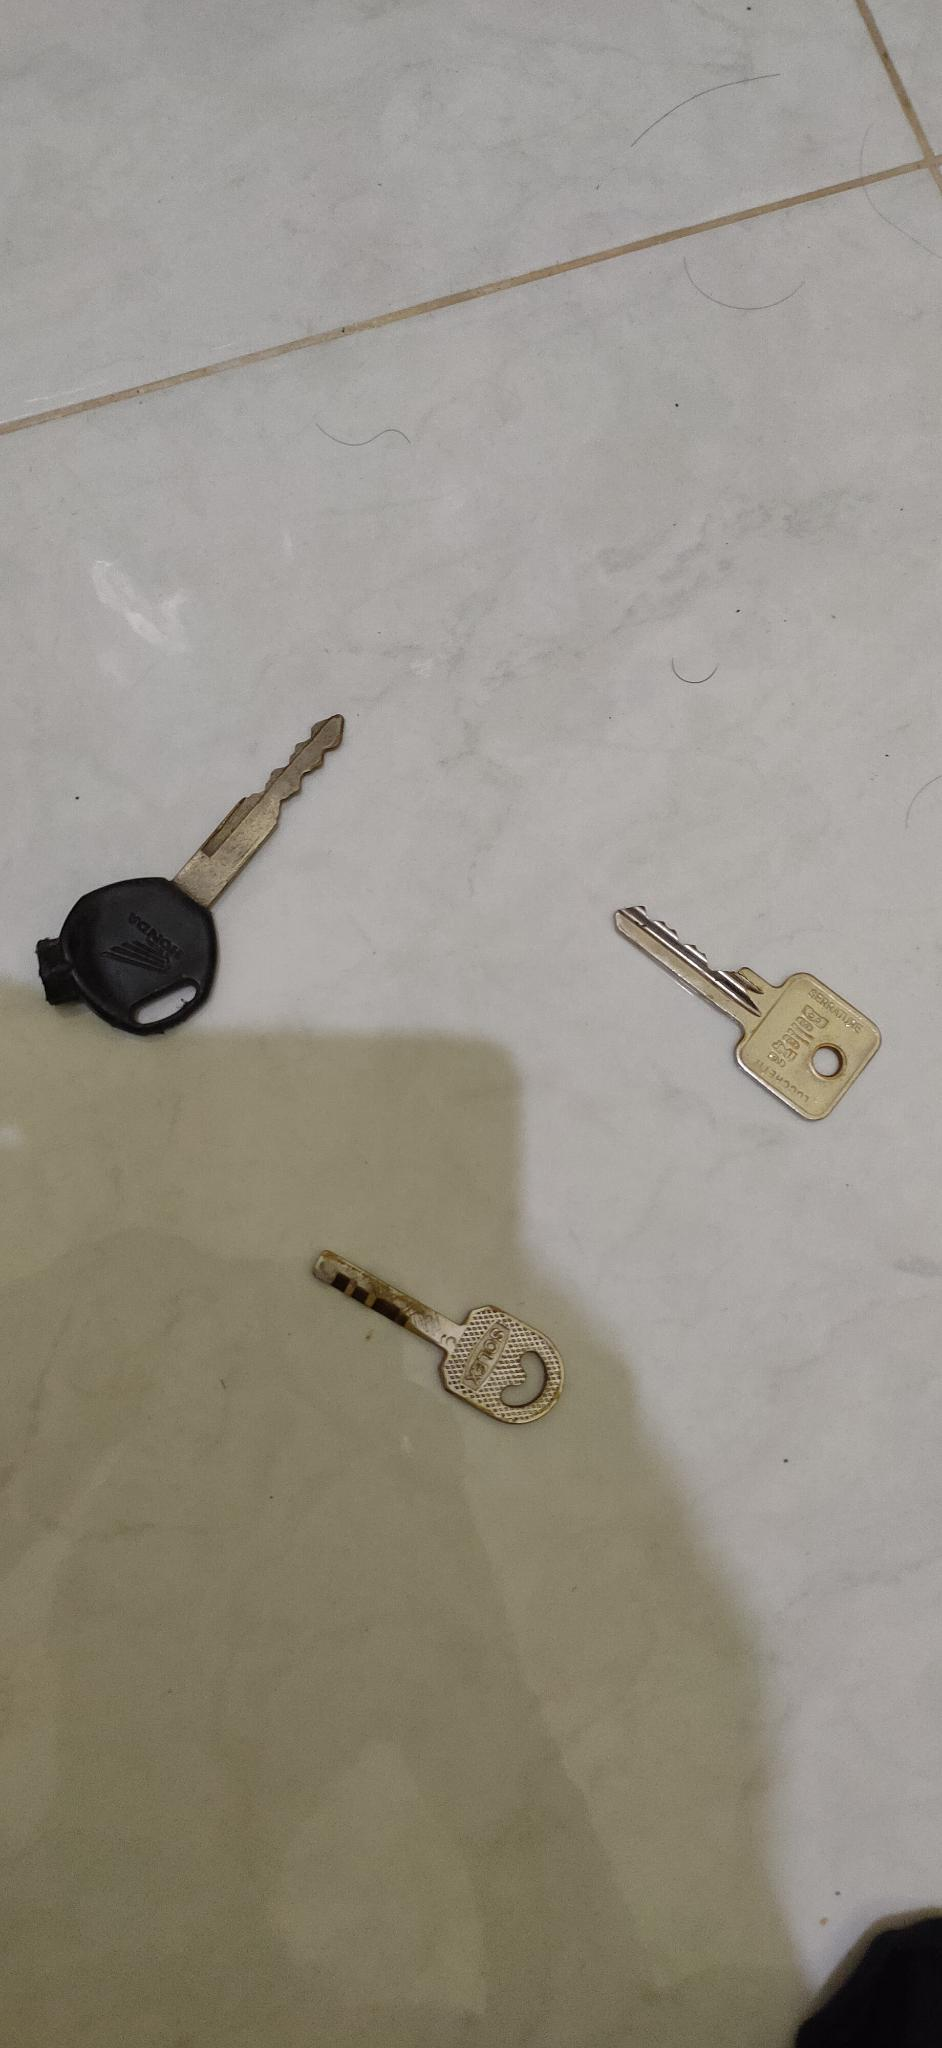keys: (12, 692, 382, 1070), (575, 856, 911, 1166), (299, 1209, 579, 1454)
